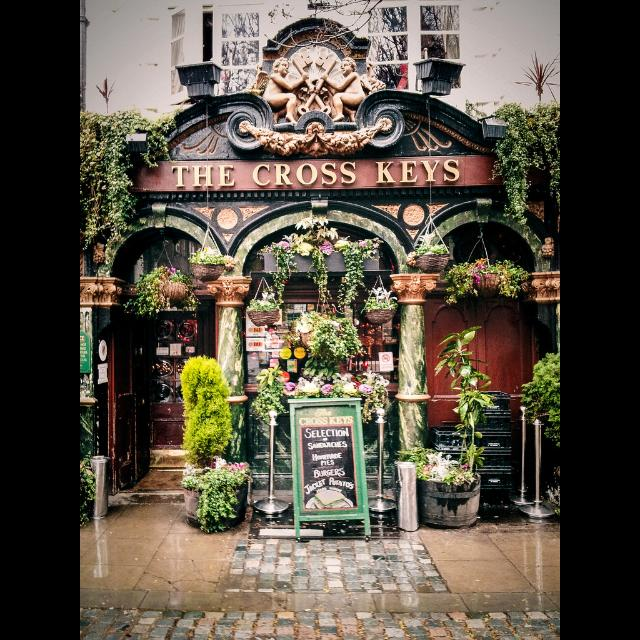Flower: (276, 376, 360, 389), (280, 235, 304, 255), (468, 264, 488, 286), (312, 240, 331, 258), (283, 381, 289, 393)
